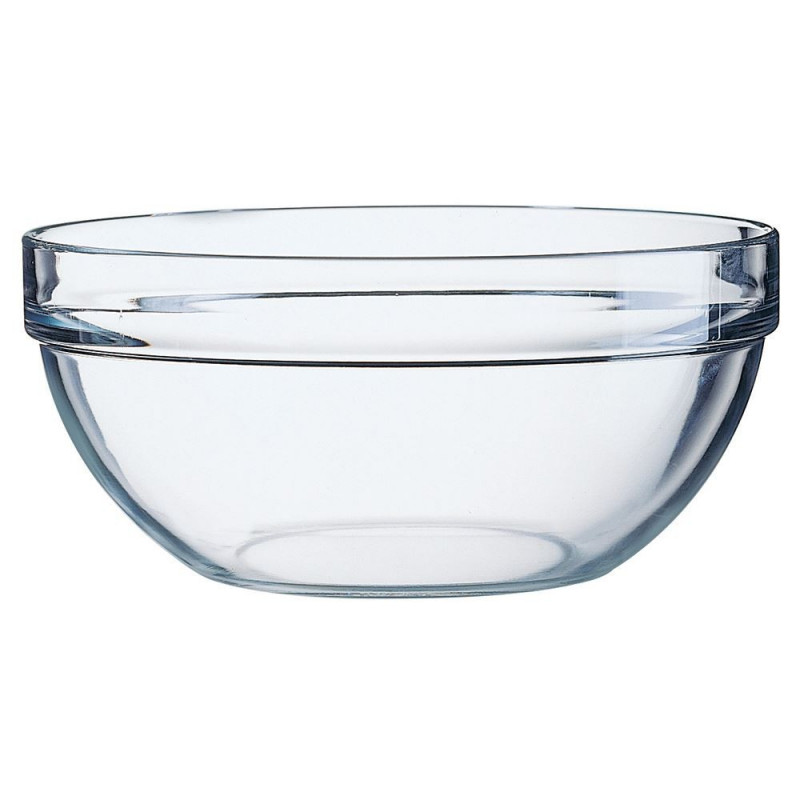glass: (17, 200, 785, 603)
